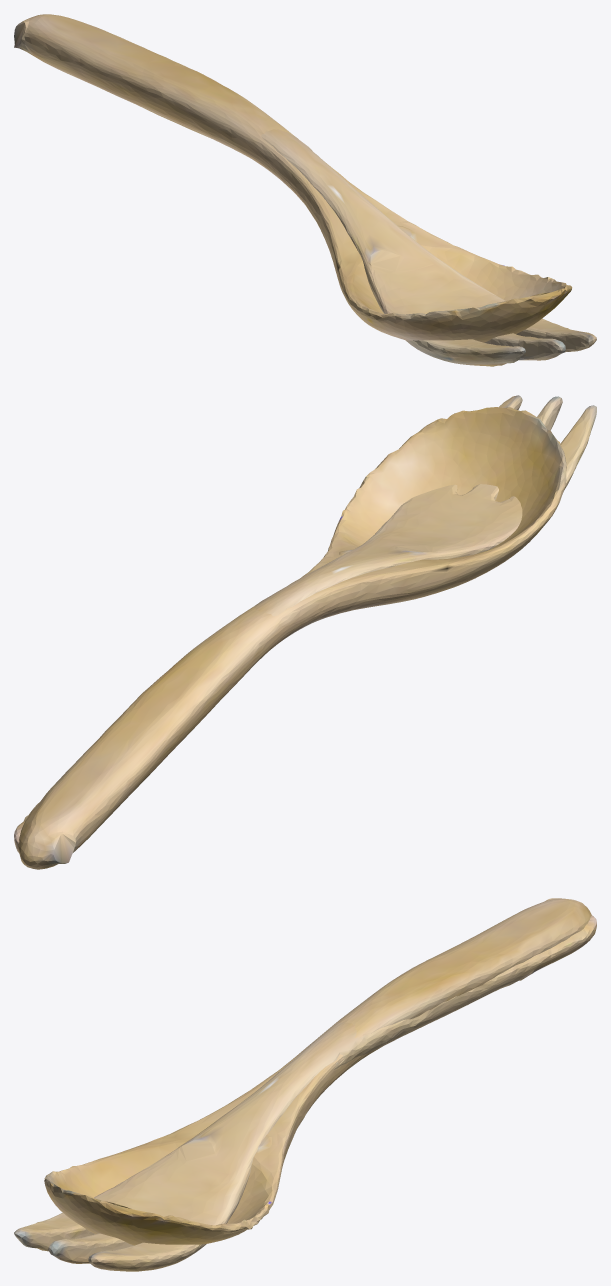
3 views of the same model, one above another, from view 1: azimuth 30°, elevation 25°; view 2: azimuth 150°, elevation 25°; view 3: azimuth 330°, elevation 25° (orthographic). The views are drawn at different scales.
Visible parts, largest first — view 1: world; view 2: world; view 3: world.
Part boxes in pixels (x1=…): world: x1=14, y1=14, x2=596, y2=366; world: x1=14, y1=395, x2=596, y2=869; world: x1=14, y1=898, x2=596, y2=1271.
Size of the model in its own units: 0.0414 by 0.0216 by 0.2095.
